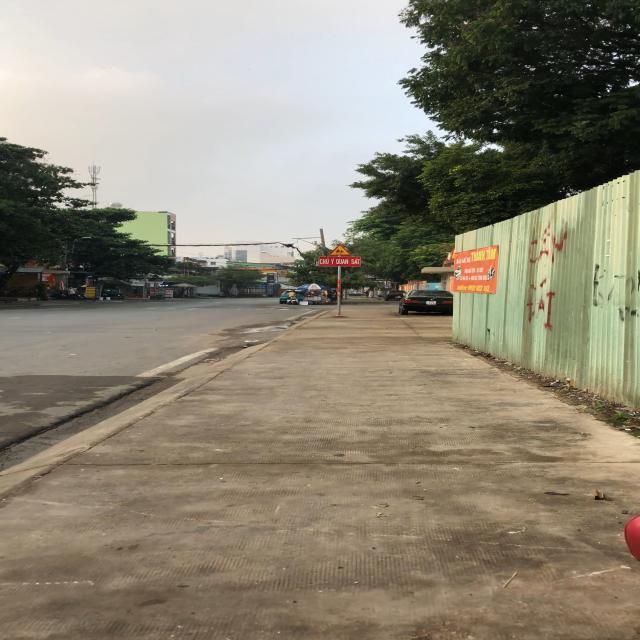Bien bao tre em: (328, 243, 354, 256)
